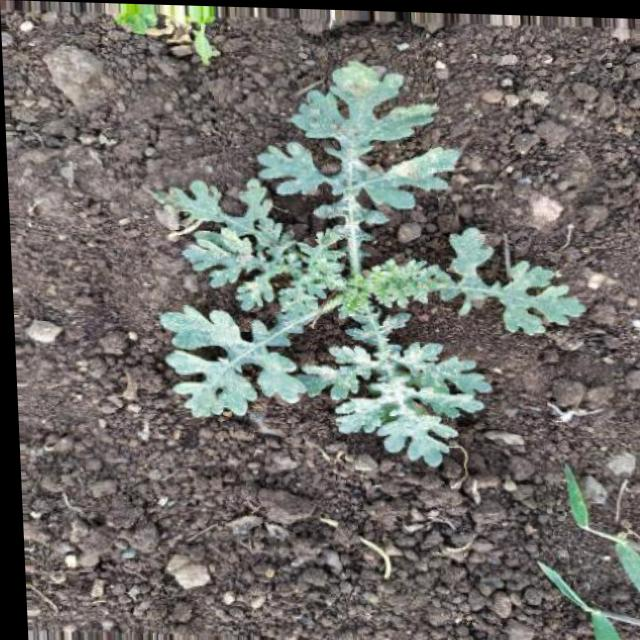weed: (144, 58, 583, 488)
